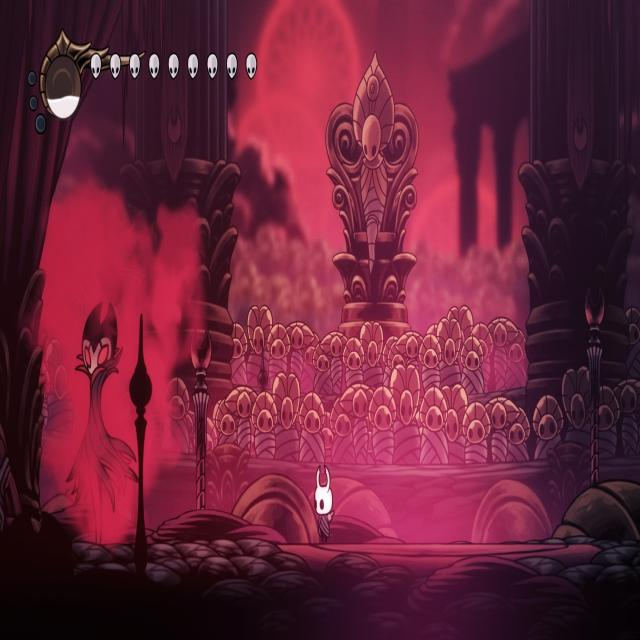Grimm: (63, 295, 142, 546)
Player: (312, 458, 337, 546)
